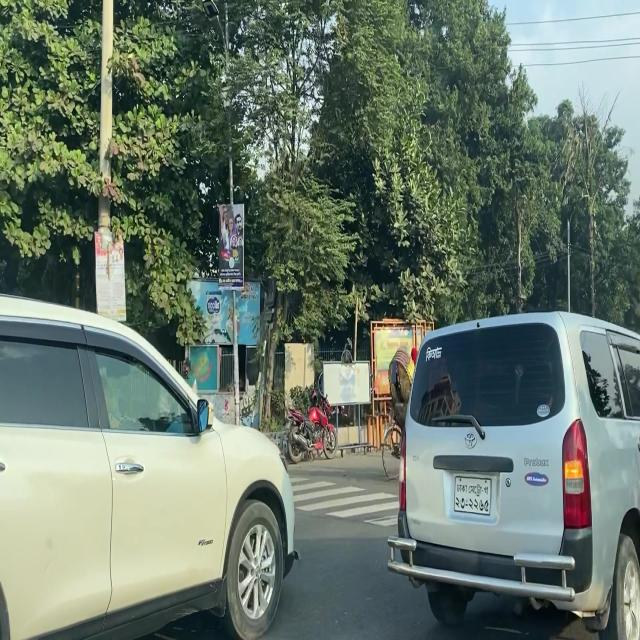car: (0, 290, 301, 639), (385, 309, 640, 640)
motorbike: (286, 388, 338, 465)
